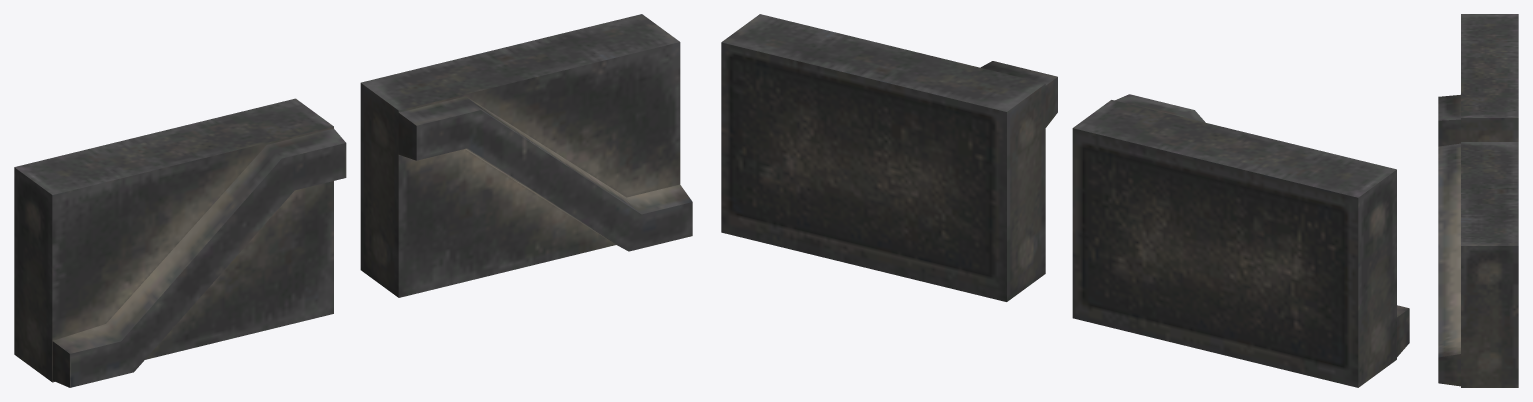
The picture shows the model from 3 angles, left to right: view 1: azimuth 30°, elevation 25°; view 2: azimuth 150°, elevation 25°; view 3: azimuth 270°, elevation 25°; orthographic projection. The views are drawn at different scales.
Visible parts, largest first — view 1: set_0_group_0; view 2: set_0_group_0; view 3: set_0_group_0.
Part boxes in pixels (box(x1,y1,x2,y2)): set_0_group_0: box(14, 14, 692, 387); set_0_group_0: box(721, 14, 1409, 387); set_0_group_0: box(1438, 14, 1518, 387).
Size of the model in its own units: 0.484 by 0.138 by 0.0711.
Materials: 1 (1 with a texture image).
